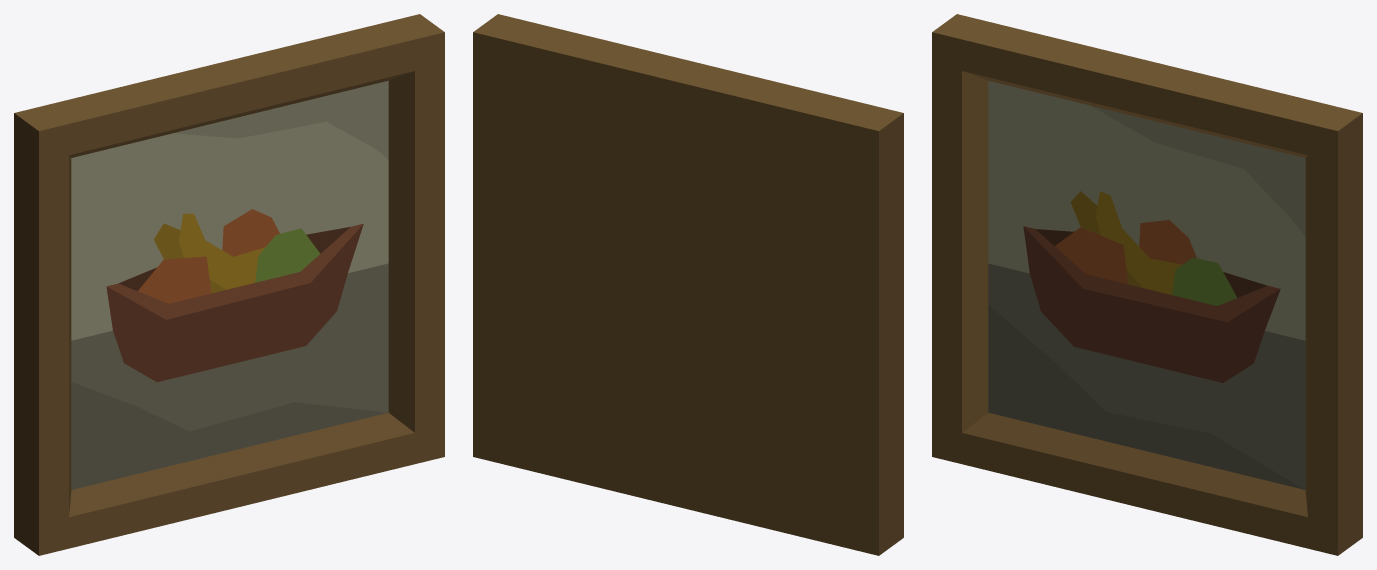
Rendered from AI_Prop_Painting_01.fbx.
3 views of the same model, side by side, from view 1: azimuth 30°, elevation 25°; view 2: azimuth 150°, elevation 25°; view 3: azimuth 330°, elevation 25° (orthographic).
Parts seen in each view (by area): view 1: AI_Prop_Painting_01; view 2: AI_Prop_Painting_01; view 3: AI_Prop_Painting_01.
Part boxes in pixels (<box>): AI_Prop_Painting_01: <box>14,14,444,555</box>; AI_Prop_Painting_01: <box>473,14,903,555</box>; AI_Prop_Painting_01: <box>932,14,1362,555</box>.
Size of the model in its own units: 1 by 1 by 0.1061.
